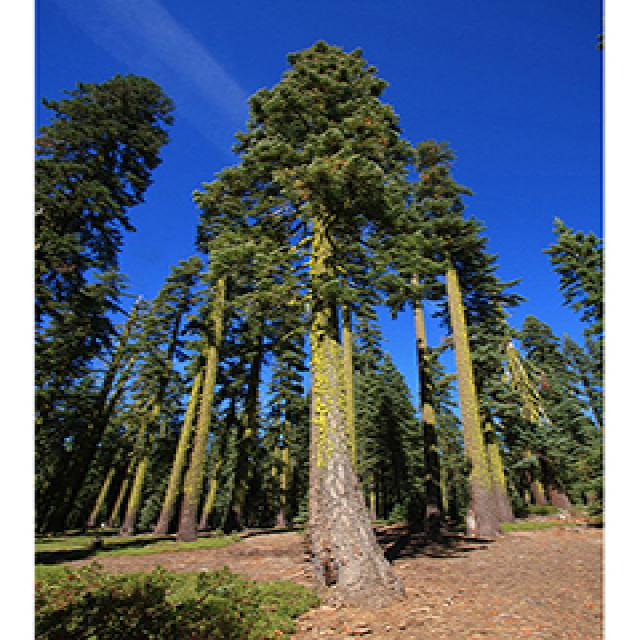Abies: (187, 39, 489, 584)
